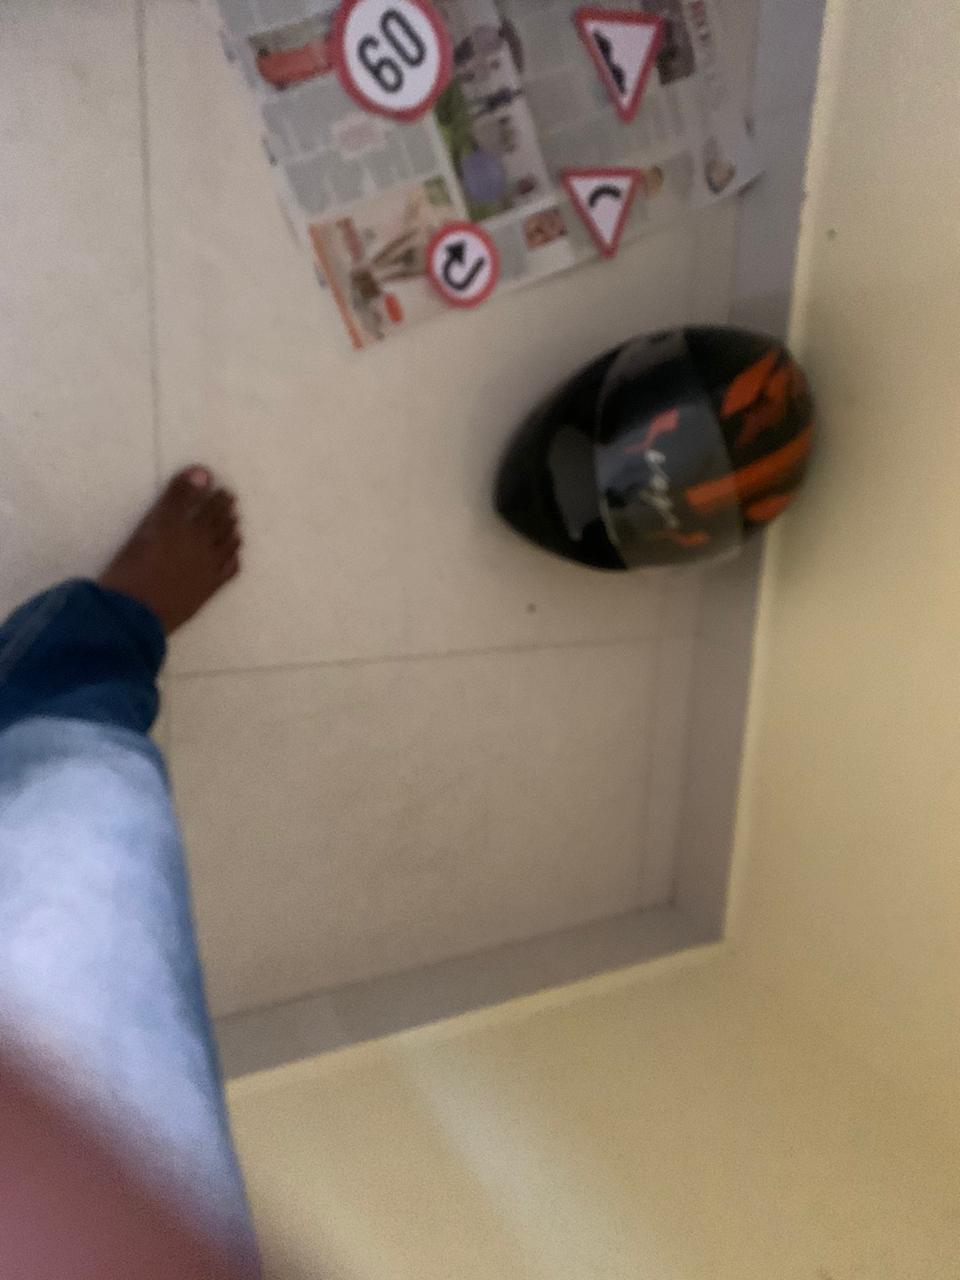LEFT CURVE: (553, 156, 665, 273)
SPEED LIMIT (60 KM/H): (327, 1, 483, 125)
U-TURN: (426, 218, 509, 318)
UNEVEN ROAD: (574, 4, 678, 126)
